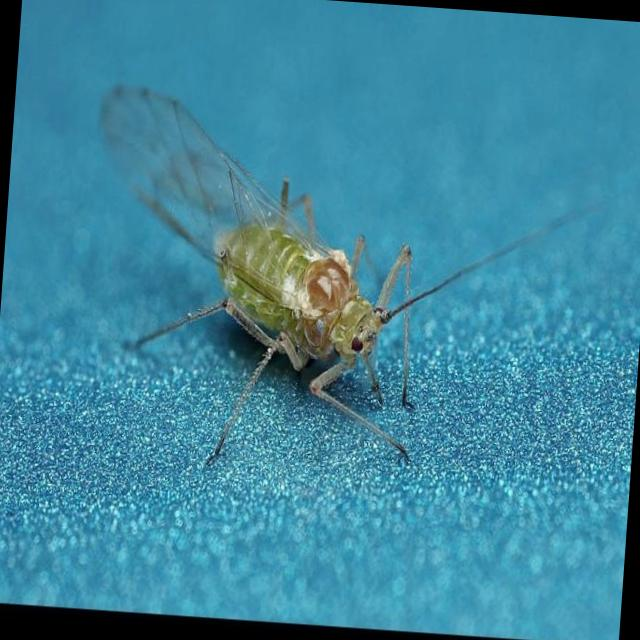aphid: (117, 183, 483, 491)
